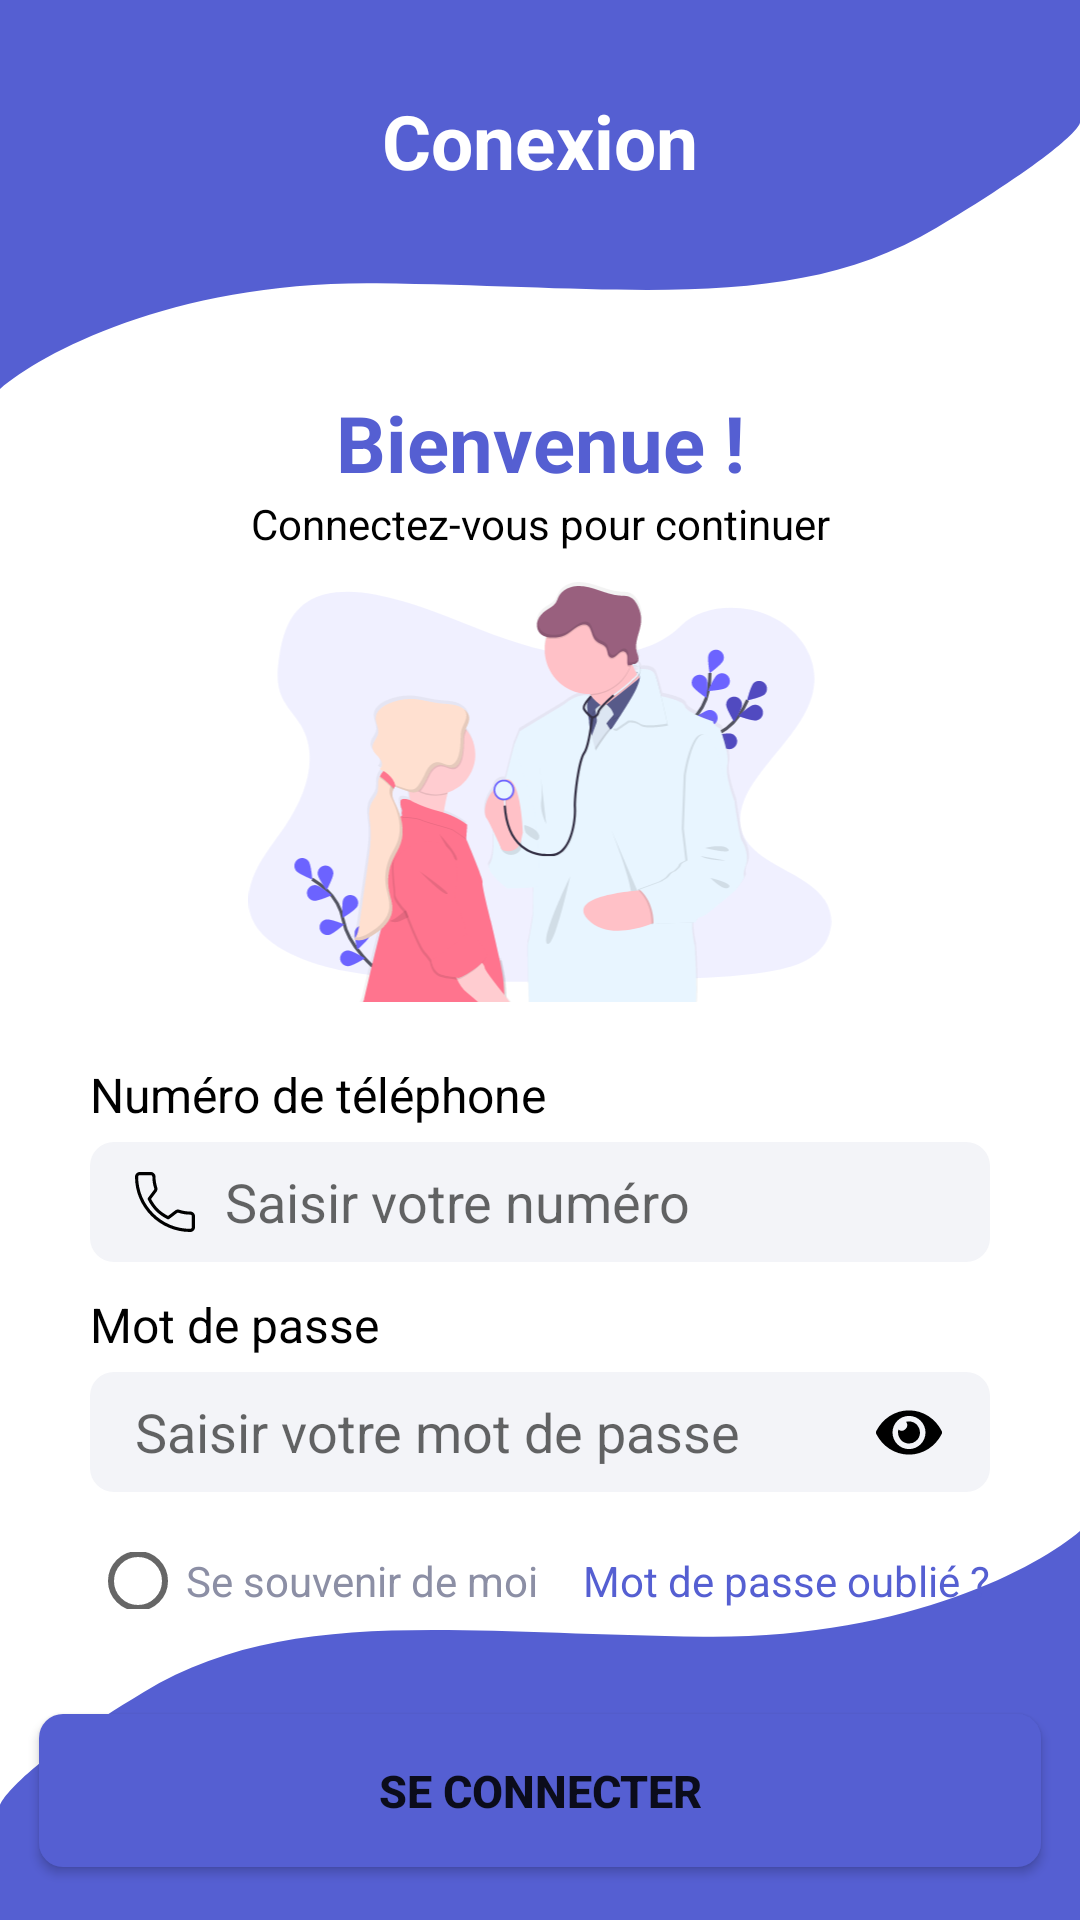

Where icons sit on this 1080x1920 app screen, as (left=x1, top=y1, right=x2, bottom=y2):
opend eye: (left=876, top=1410, right=942, bottom=1455)
